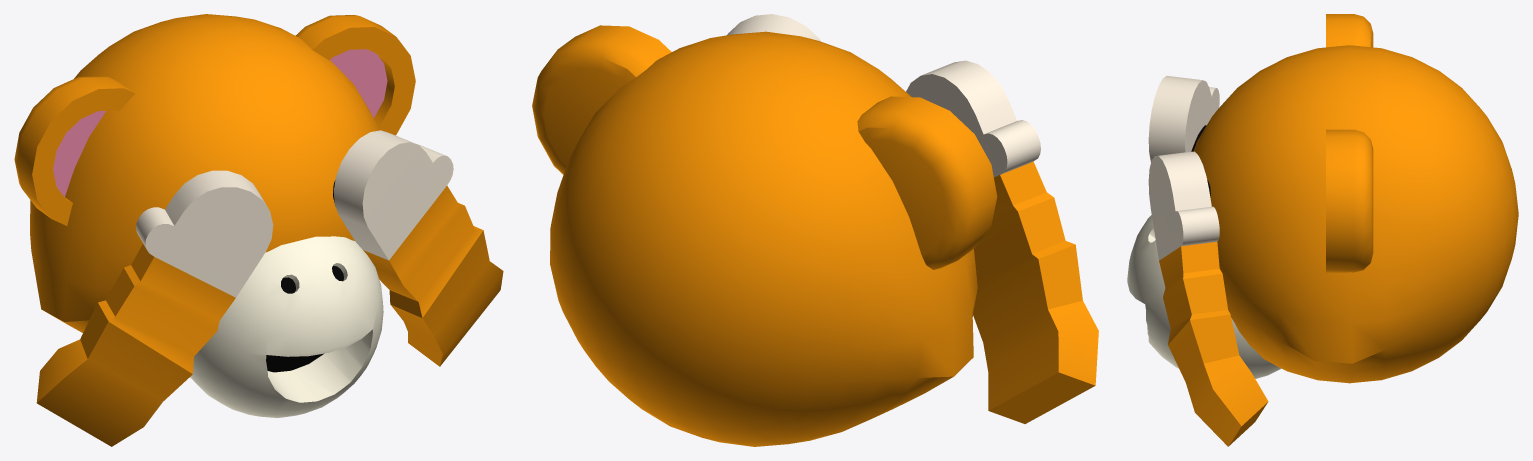
Rendered from see_no_evil_monkey.glb.
The picture shows the model from 3 angles, left to right: view 1: azimuth 30°, elevation 25°; view 2: azimuth 150°, elevation 25°; view 3: azimuth 270°, elevation 25°; orthographic projection. The views are drawn at different scales.
Parts seen in each view (by area): view 1: Cube.6131; view 2: Cube.6131; view 3: Cube.6131.
Boxes of the visible parts, box(x1,y1,x2,y2) form: Cube.6131: box(14, 14, 503, 446); Cube.6131: box(532, 14, 1098, 446); Cube.6131: box(1127, 14, 1518, 446).
Bounding box in the file's own units: 2.05 × 1.4 × 1.59.
Materials: 1 (1 with a texture image).
